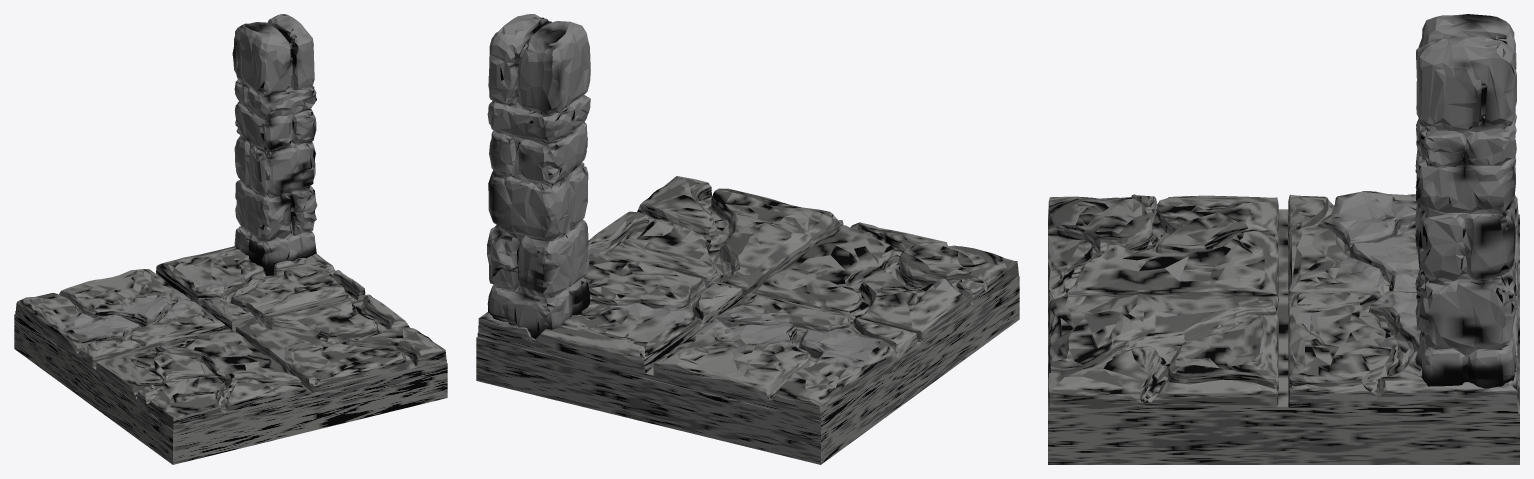
Rendered from rough_stone_convex.fbx.
The picture shows the model from 3 angles, left to right: view 1: azimuth 30°, elevation 25°; view 2: azimuth 150°, elevation 25°; view 3: azimuth 270°, elevation 25°; orthographic projection. The views are drawn at different scales.
Visible parts, largest first — view 1: Cube.006; view 2: Cube.006; view 3: Cube.006.
Part boxes in pixels (bbox=[...]): Cube.006: bbox=[14, 14, 447, 464]; Cube.006: bbox=[476, 14, 1019, 464]; Cube.006: bbox=[1048, 14, 1519, 464].
Size of the model in its own units: 5000 by 4835 by 5000.
Materials: 2 (2 with a texture image).
